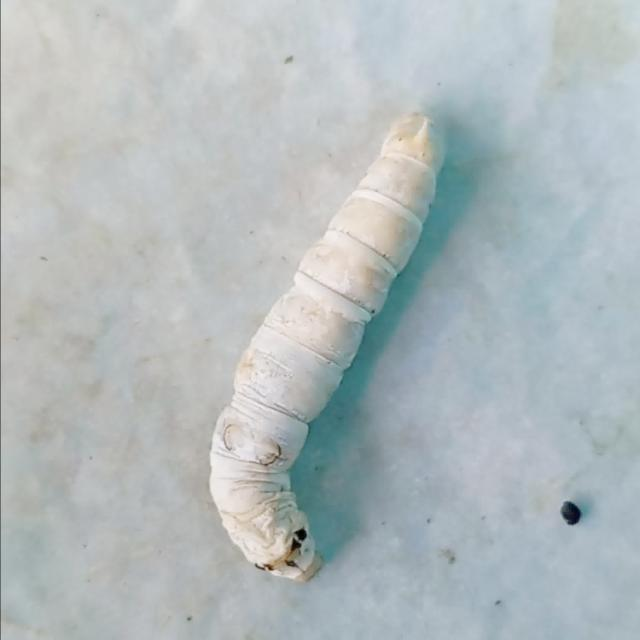Grasserie: (192, 94, 460, 586)
